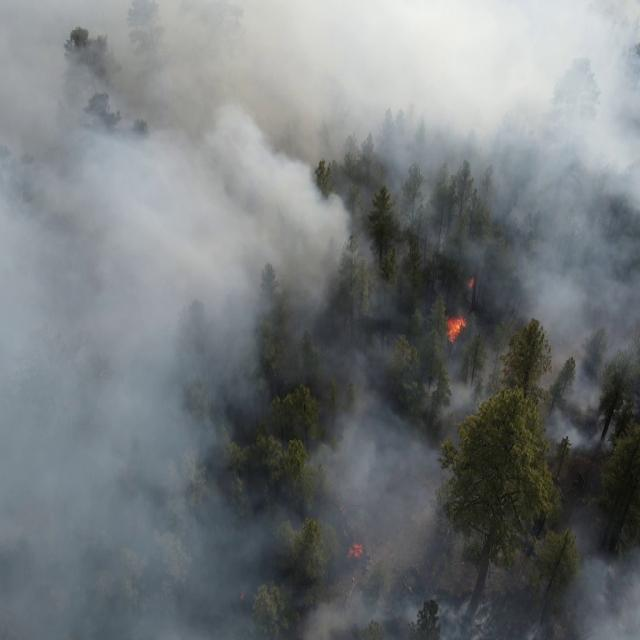fire: (444, 311, 468, 344), (339, 502, 352, 540), (347, 539, 365, 559), (236, 587, 248, 602), (468, 274, 477, 290)
smoke: (0, 0, 437, 640), (548, 0, 640, 451), (437, 0, 548, 318), (439, 529, 640, 640), (437, 318, 498, 401), (438, 400, 464, 476)
